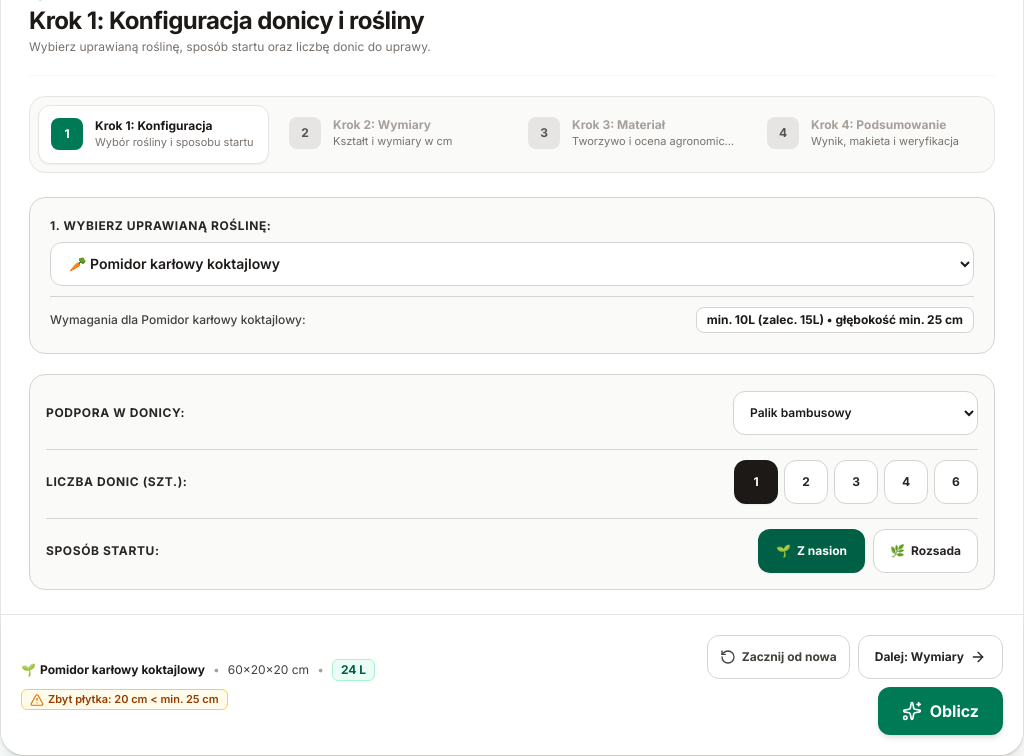
Scenario: PotCalculator - Submit Contract, Idempotency, Errors, Timeout & Navigation › submits explicit payload with dimensions, shape, material, formula version, result values, timestamp, and idempotency key
(page scrolled)
Click the button with test id "pot-calculator-submit" at coordinates (940, 710), box [878, 686, 1003, 734]
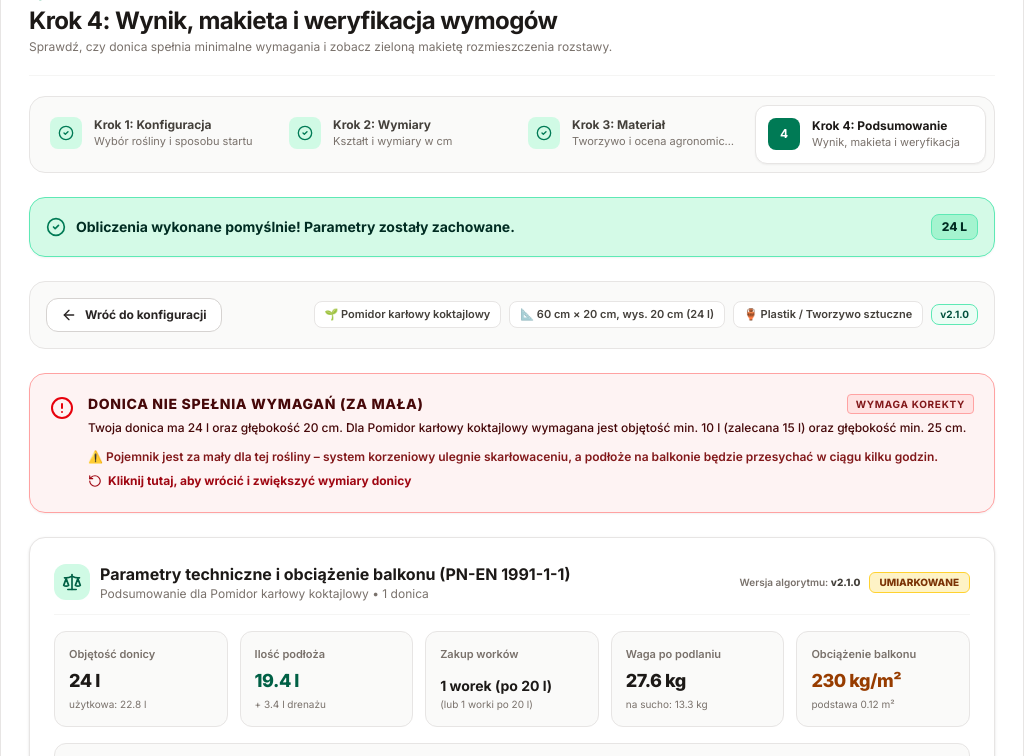
Now the message "Obliczenia wykonane pomyślnie! Parametry zostały zachowane. 24 L" is shown, box [29, 196, 995, 256]
